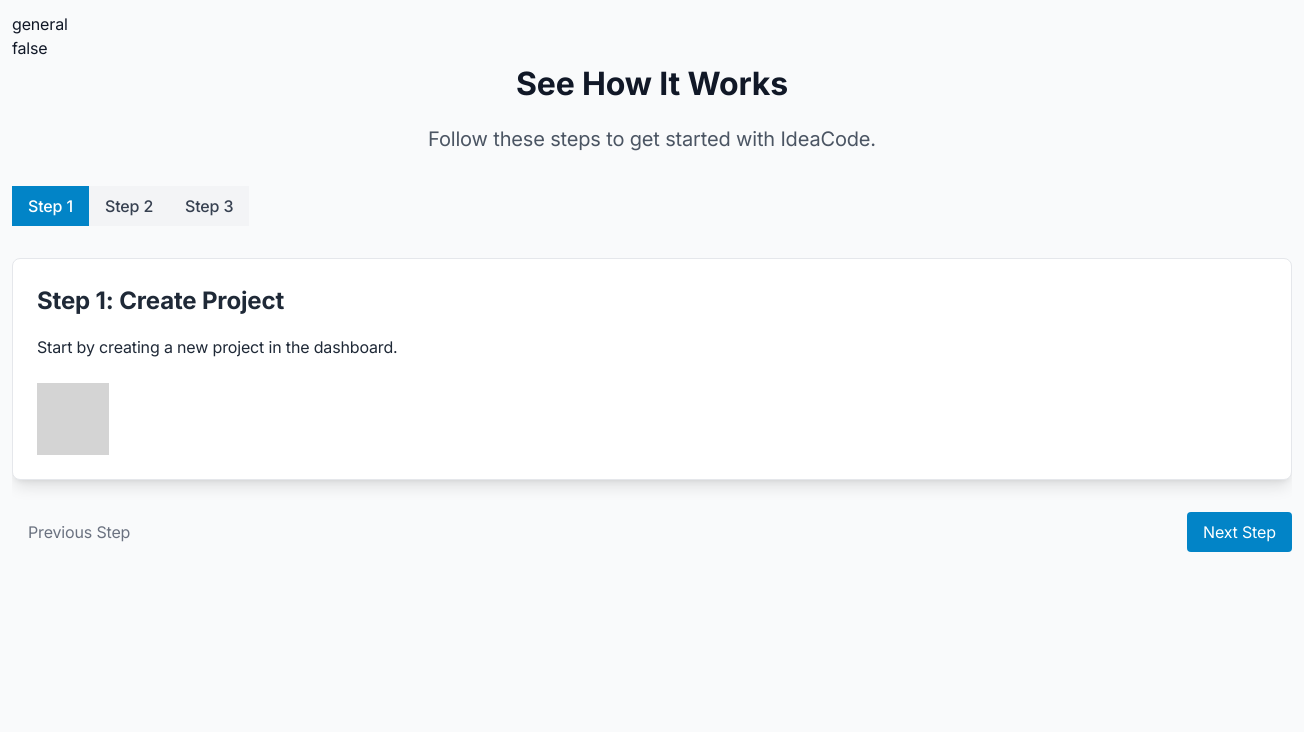
Test: Interactive Components Integration › ProductDemo › navigates through demo steps
The width and height of the screenshot is (1304, 732).
Note: Click next to go to step 2
Click the button "Next Step".
click(1240, 532)  # box top-left (1187, 512), bottom-right (1292, 552)
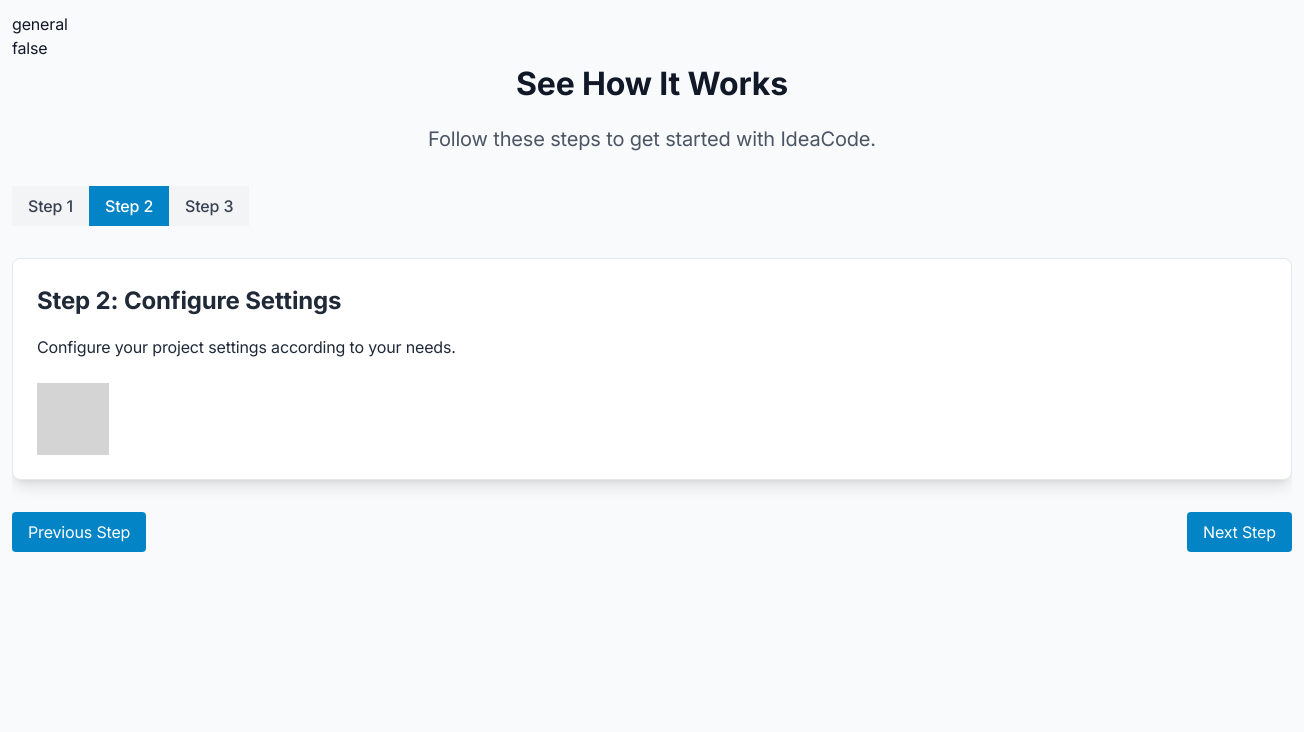
Expected: the tab "Step 2" is shown, top-left (89, 186), bottom-right (169, 226)
Now the text "Configure your project settings according to your needs." is shown, box top-left (37, 337), bottom-right (456, 357)
Note: Click next to go to step 3
Click the button "Next Step".
click(1240, 532)  # box top-left (1187, 512), bottom-right (1292, 552)
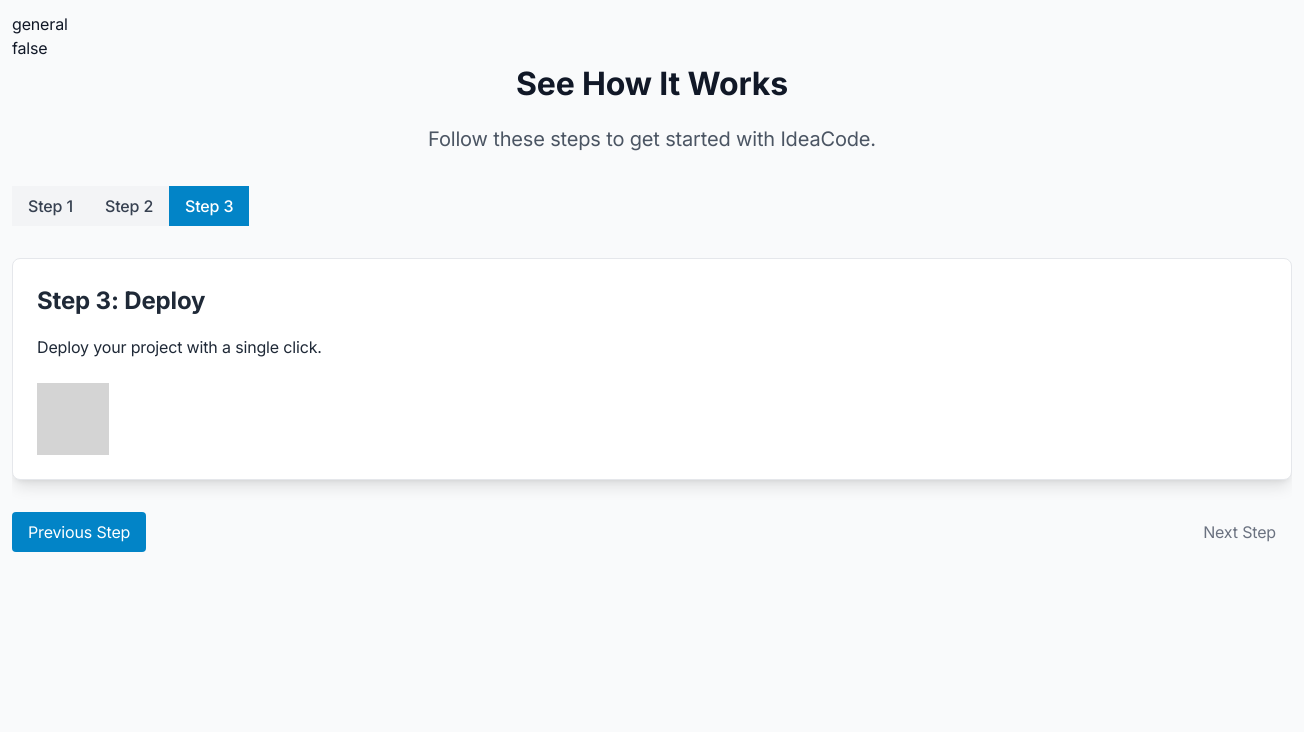
Expected: the tab "Step 3" is shown, top-left (169, 186), bottom-right (249, 226)
Now the text "Deploy your project with a single click." is shown, box top-left (37, 337), bottom-right (322, 357)
Note: Click previous to go back to step 2
Click the button "Previous Step".
click(79, 532)  # box top-left (12, 512), bottom-right (146, 552)
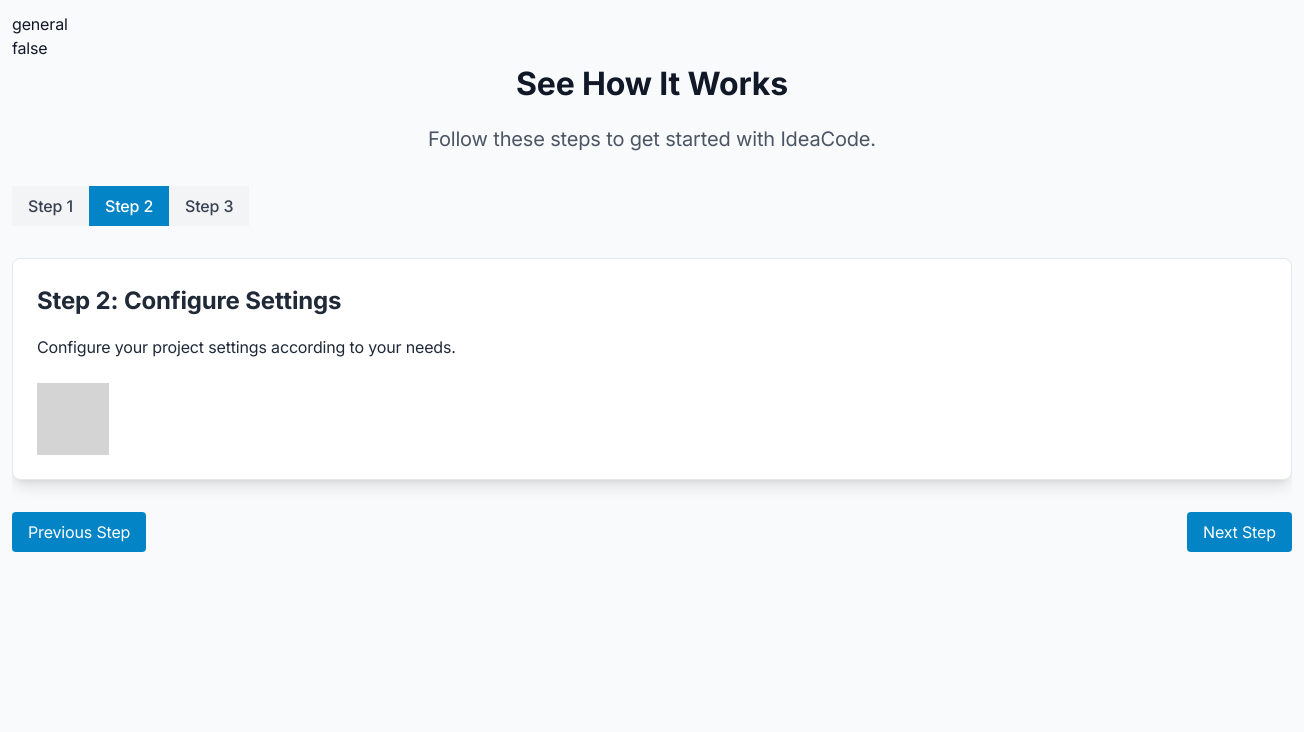
Expected: the tab "Step 2" is shown, top-left (89, 186), bottom-right (169, 226)
Now the text "Configure your project settings according to your needs." is shown, box top-left (37, 337), bottom-right (456, 357)
